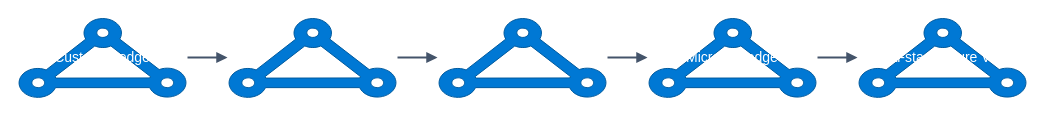
Some shapes in this 1045 by 115 pixel diagram are drawn without their labels. Each missing label, with the centre of its shape:
ExpressRoute circuit: point 522,57
IPv4 /30 + IPv6 /126: point 312,57
